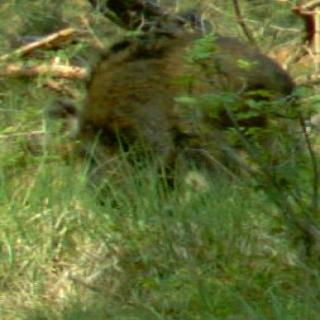Pig: (58, 27, 318, 233)
